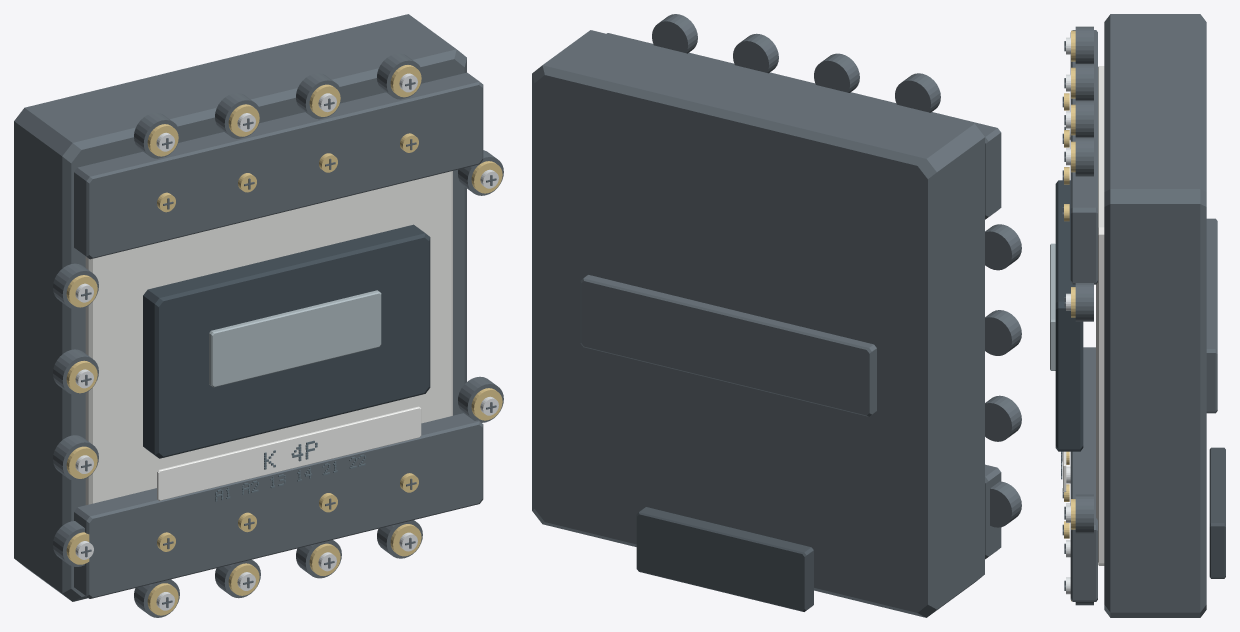
Rendered from contactor4P.glb.
The picture shows the model from 3 angles, left to right: view 1: azimuth 30°, elevation 25°; view 2: azimuth 150°, elevation 25°; view 3: azimuth 270°, elevation 25°; orthographic projection. The views are drawn at different scales.
Parts seen in each view (by area): view 1: contactor4P-detailed; view 2: contactor4P-detailed; view 3: contactor4P-detailed.
Part boxes in pixels (x1=…): contactor4P-detailed: x1=14, y1=14, x2=503, y2=617; contactor4P-detailed: x1=532, y1=14, x2=1021, y2=617; contactor4P-detailed: x1=1050, y1=14, x2=1225, y2=617.
Size of the model in its own units: 3.81 by 4.11 by 1.41.
